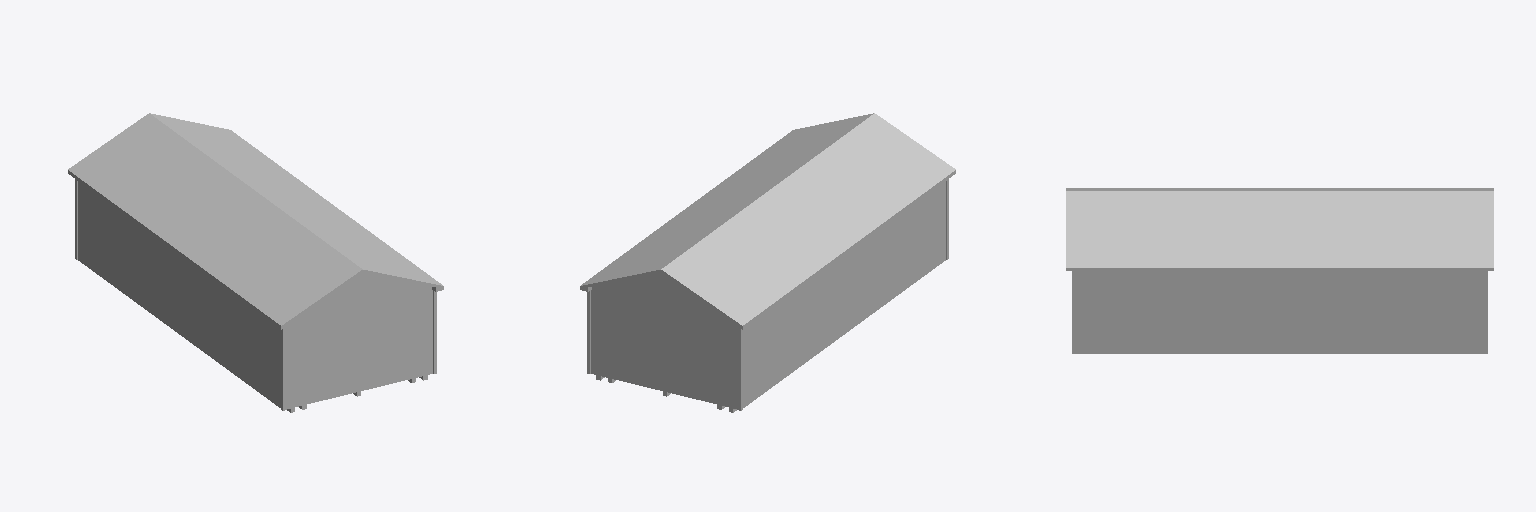
Rendered from Classic A-Frame_12x28.obj.
3 renders of one model, left to right at view 1: azimuth 30°, elevation 25°; view 2: azimuth 150°, elevation 25°; view 3: azimuth 270°, elevation 25°, orthographic.
Parts seen in each view (by area): view 1: Classic A-Frame_12x28.obj; view 2: Classic A-Frame_12x28.obj; view 3: Classic A-Frame_12x28.obj.
Part boxes in pixels (x1,y1,x2,y2): Classic A-Frame_12x28.obj: (68,113,443,412); Classic A-Frame_12x28.obj: (580,113,955,412); Classic A-Frame_12x28.obj: (1066,188,1493,353).
Bounding box in the file's own units: 3.9 × 2.96 × 8.84.